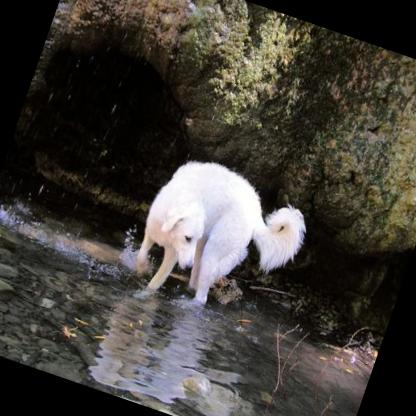kuvasz: (116, 144, 320, 345)
